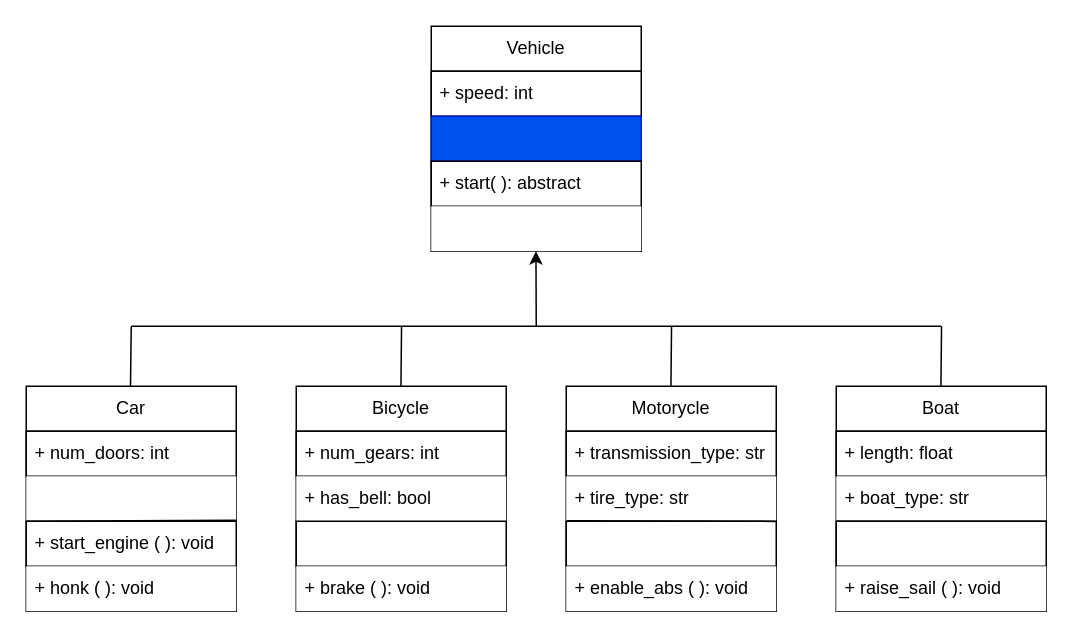
This 1074x638 diagram has some shape labels left out. The shapes that lost their labels are listed below. From the top down, each one's centre as x and y in pixels, then its label:
At [535,138]: "+ passenger_limit: int".
At [535,228]: "+ stop( ): void".
At [131,498]: "+ fuel_type: str".
At [400,543]: "+ ring_bell ( ): void".
At [670,543]: "+ rev_engine ( ): void".
At [940,543]: "+ lower_achor ( ): void".
